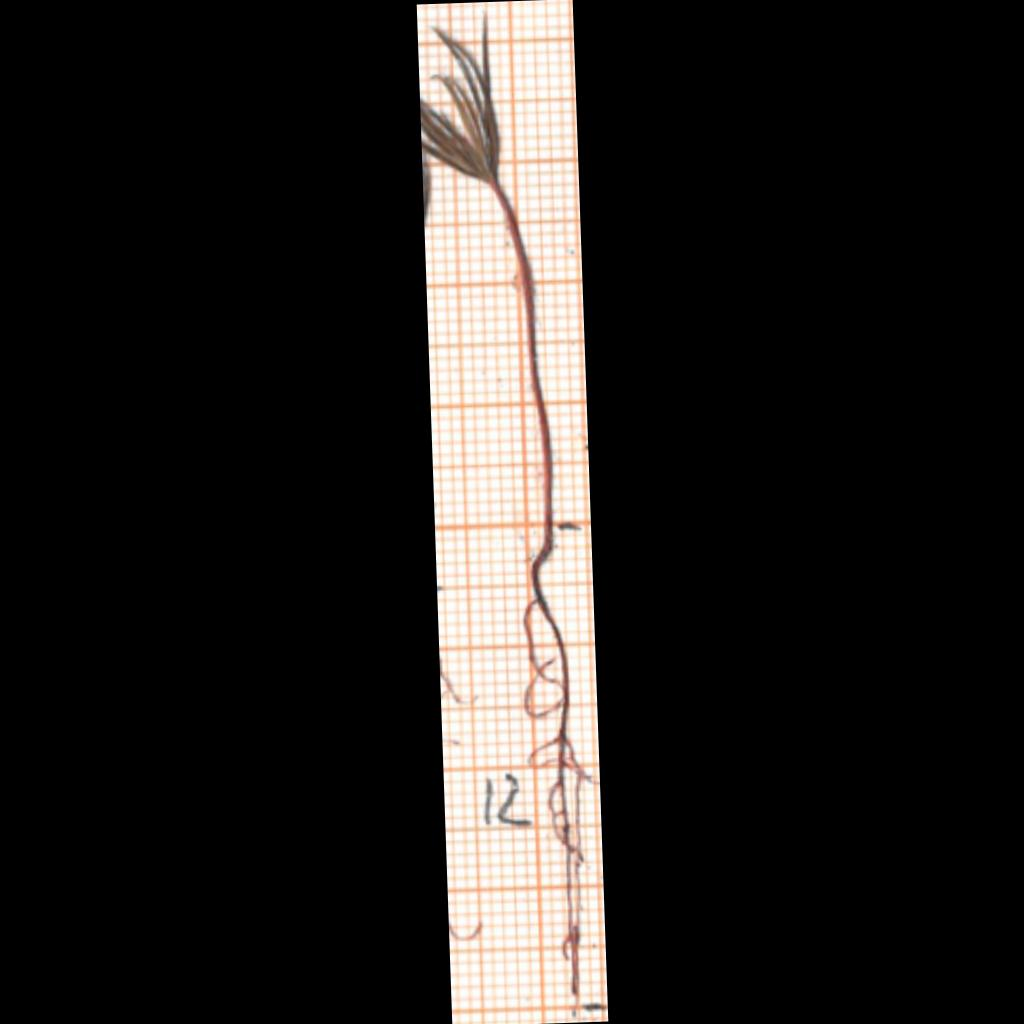flowerPinus: (420, 17, 501, 181)
rootPinus: (524, 538, 591, 999)
stemPinus: (494, 184, 553, 537)
